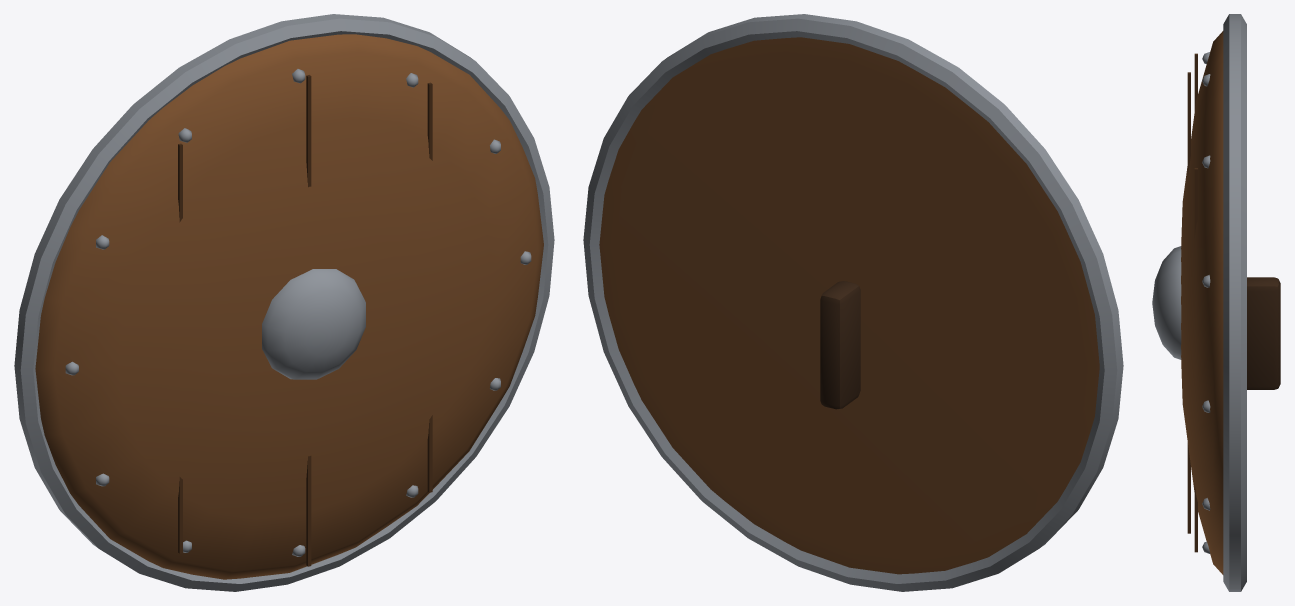
The model's file is shield_iron.glb.
3 views of the same model, side by side, from view 1: azimuth 30°, elevation 25°; view 2: azimuth 150°, elevation 25°; view 3: azimuth 270°, elevation 25° (orthographic). The views are drawn at different scales.
Visible parts, largest first — view 1: shield_iron; view 2: shield_iron; view 3: shield_iron.
Boxes of the visible parts, x1=… form: shield_iron: x1=14, y1=14, x2=554, y2=591; shield_iron: x1=583, y1=14, x2=1123, y2=591; shield_iron: x1=1152, y1=14, x2=1280, y2=591.
Bounding box in the file's own units: 0.6842 × 0.6842 × 0.152.
